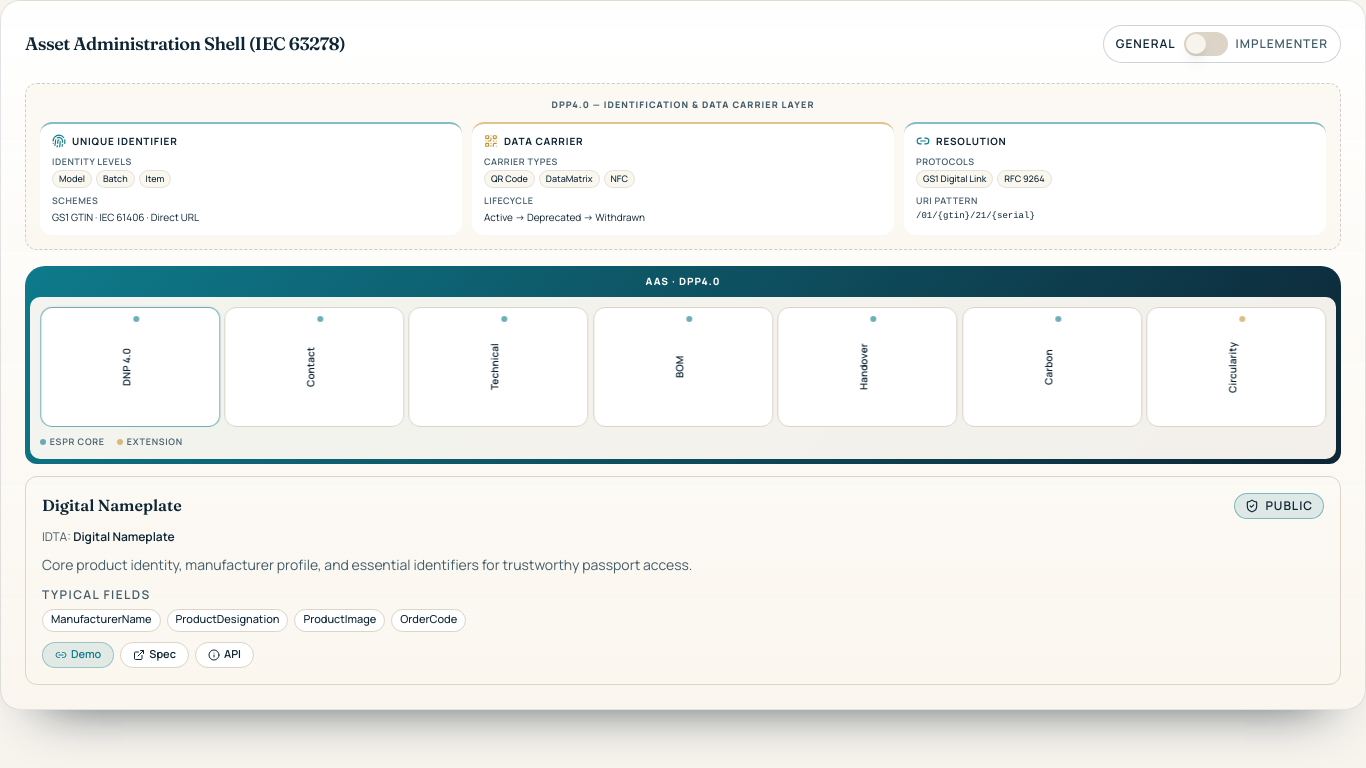
Test case: DppCompactModel › switches to implementer mode metadata
The image size is (1366, 768).
Click the switch named "implementer mode".
click(1206, 44)  # box [1184,32,1228,56]
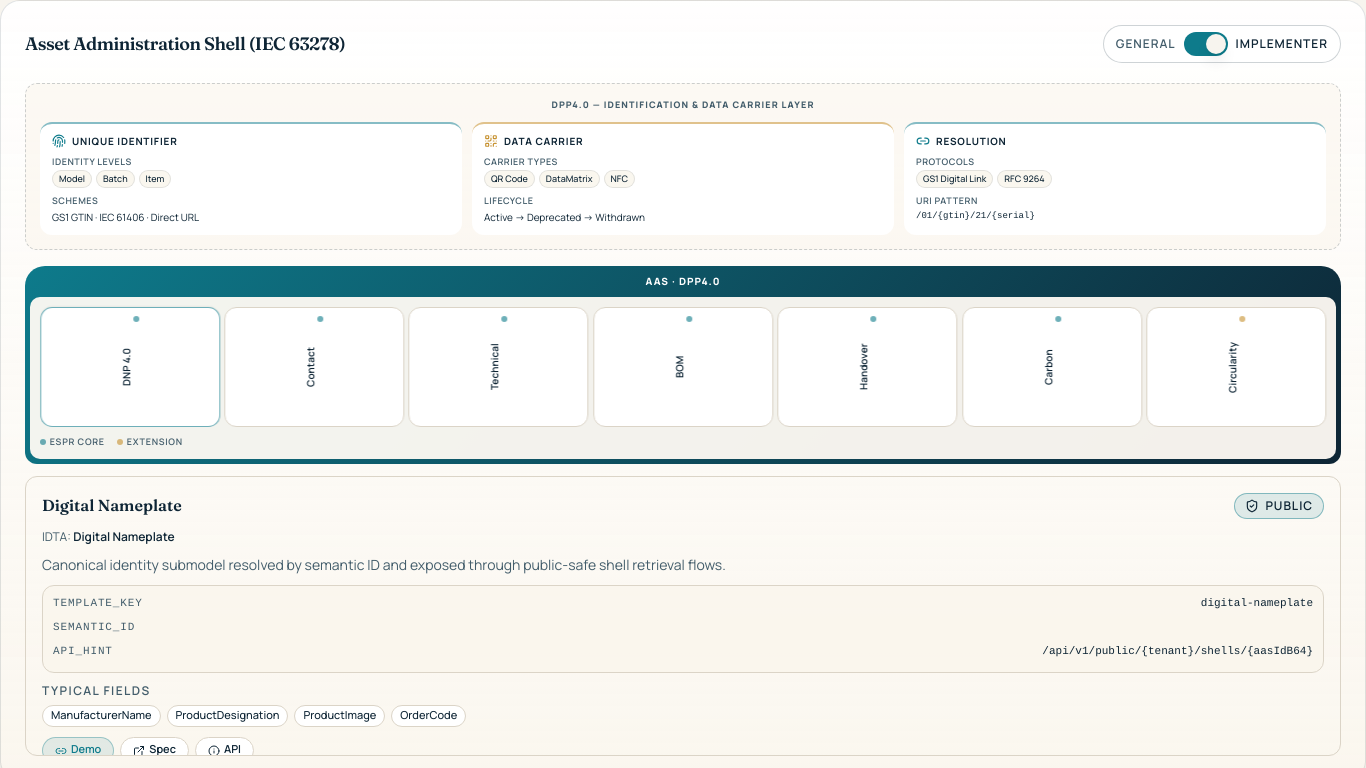
Expected: the text "template_key" is shown, [53,596,143,614]
Expected: the text "semantic_id" is shown, [53,620,135,638]
Expected: the text "api_hint" is shown, [53,644,113,662]
